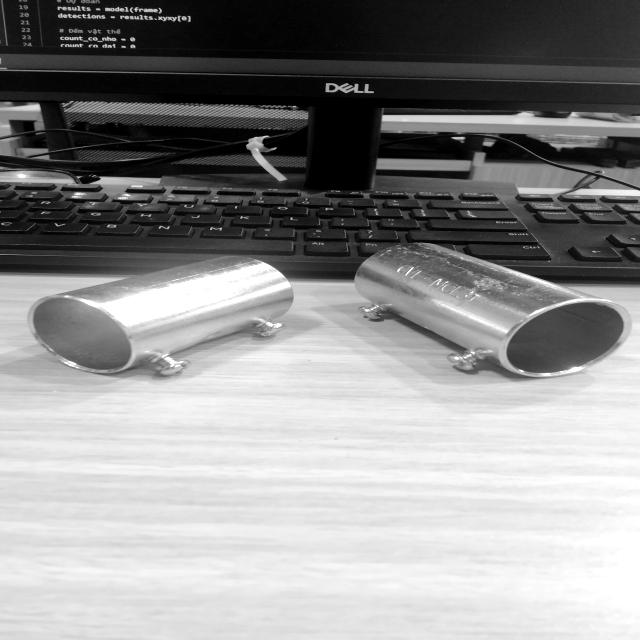Co_Lon: (336, 222, 638, 417)
Co_Nho: (20, 229, 306, 409)
